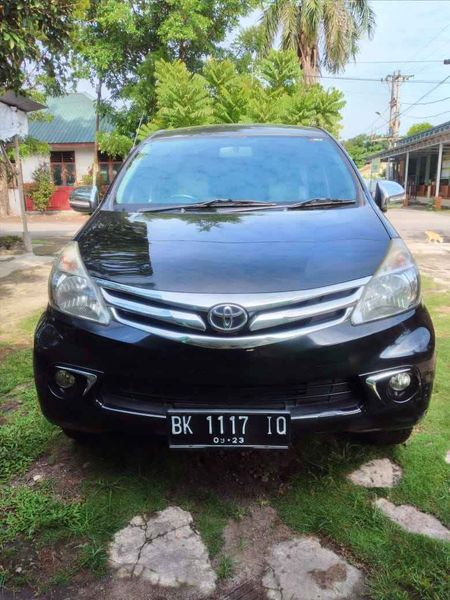plate: (165, 405, 292, 459)
